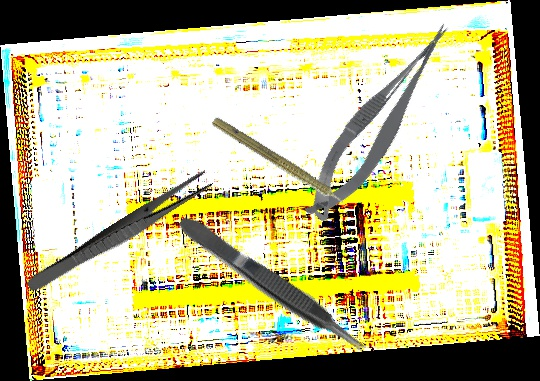Dressing Forceps: (24, 167, 215, 299)
Handpiece: (207, 113, 359, 219)
Micro Scissor: (284, 15, 478, 231)
Tissue Forceps: (174, 207, 372, 363)
